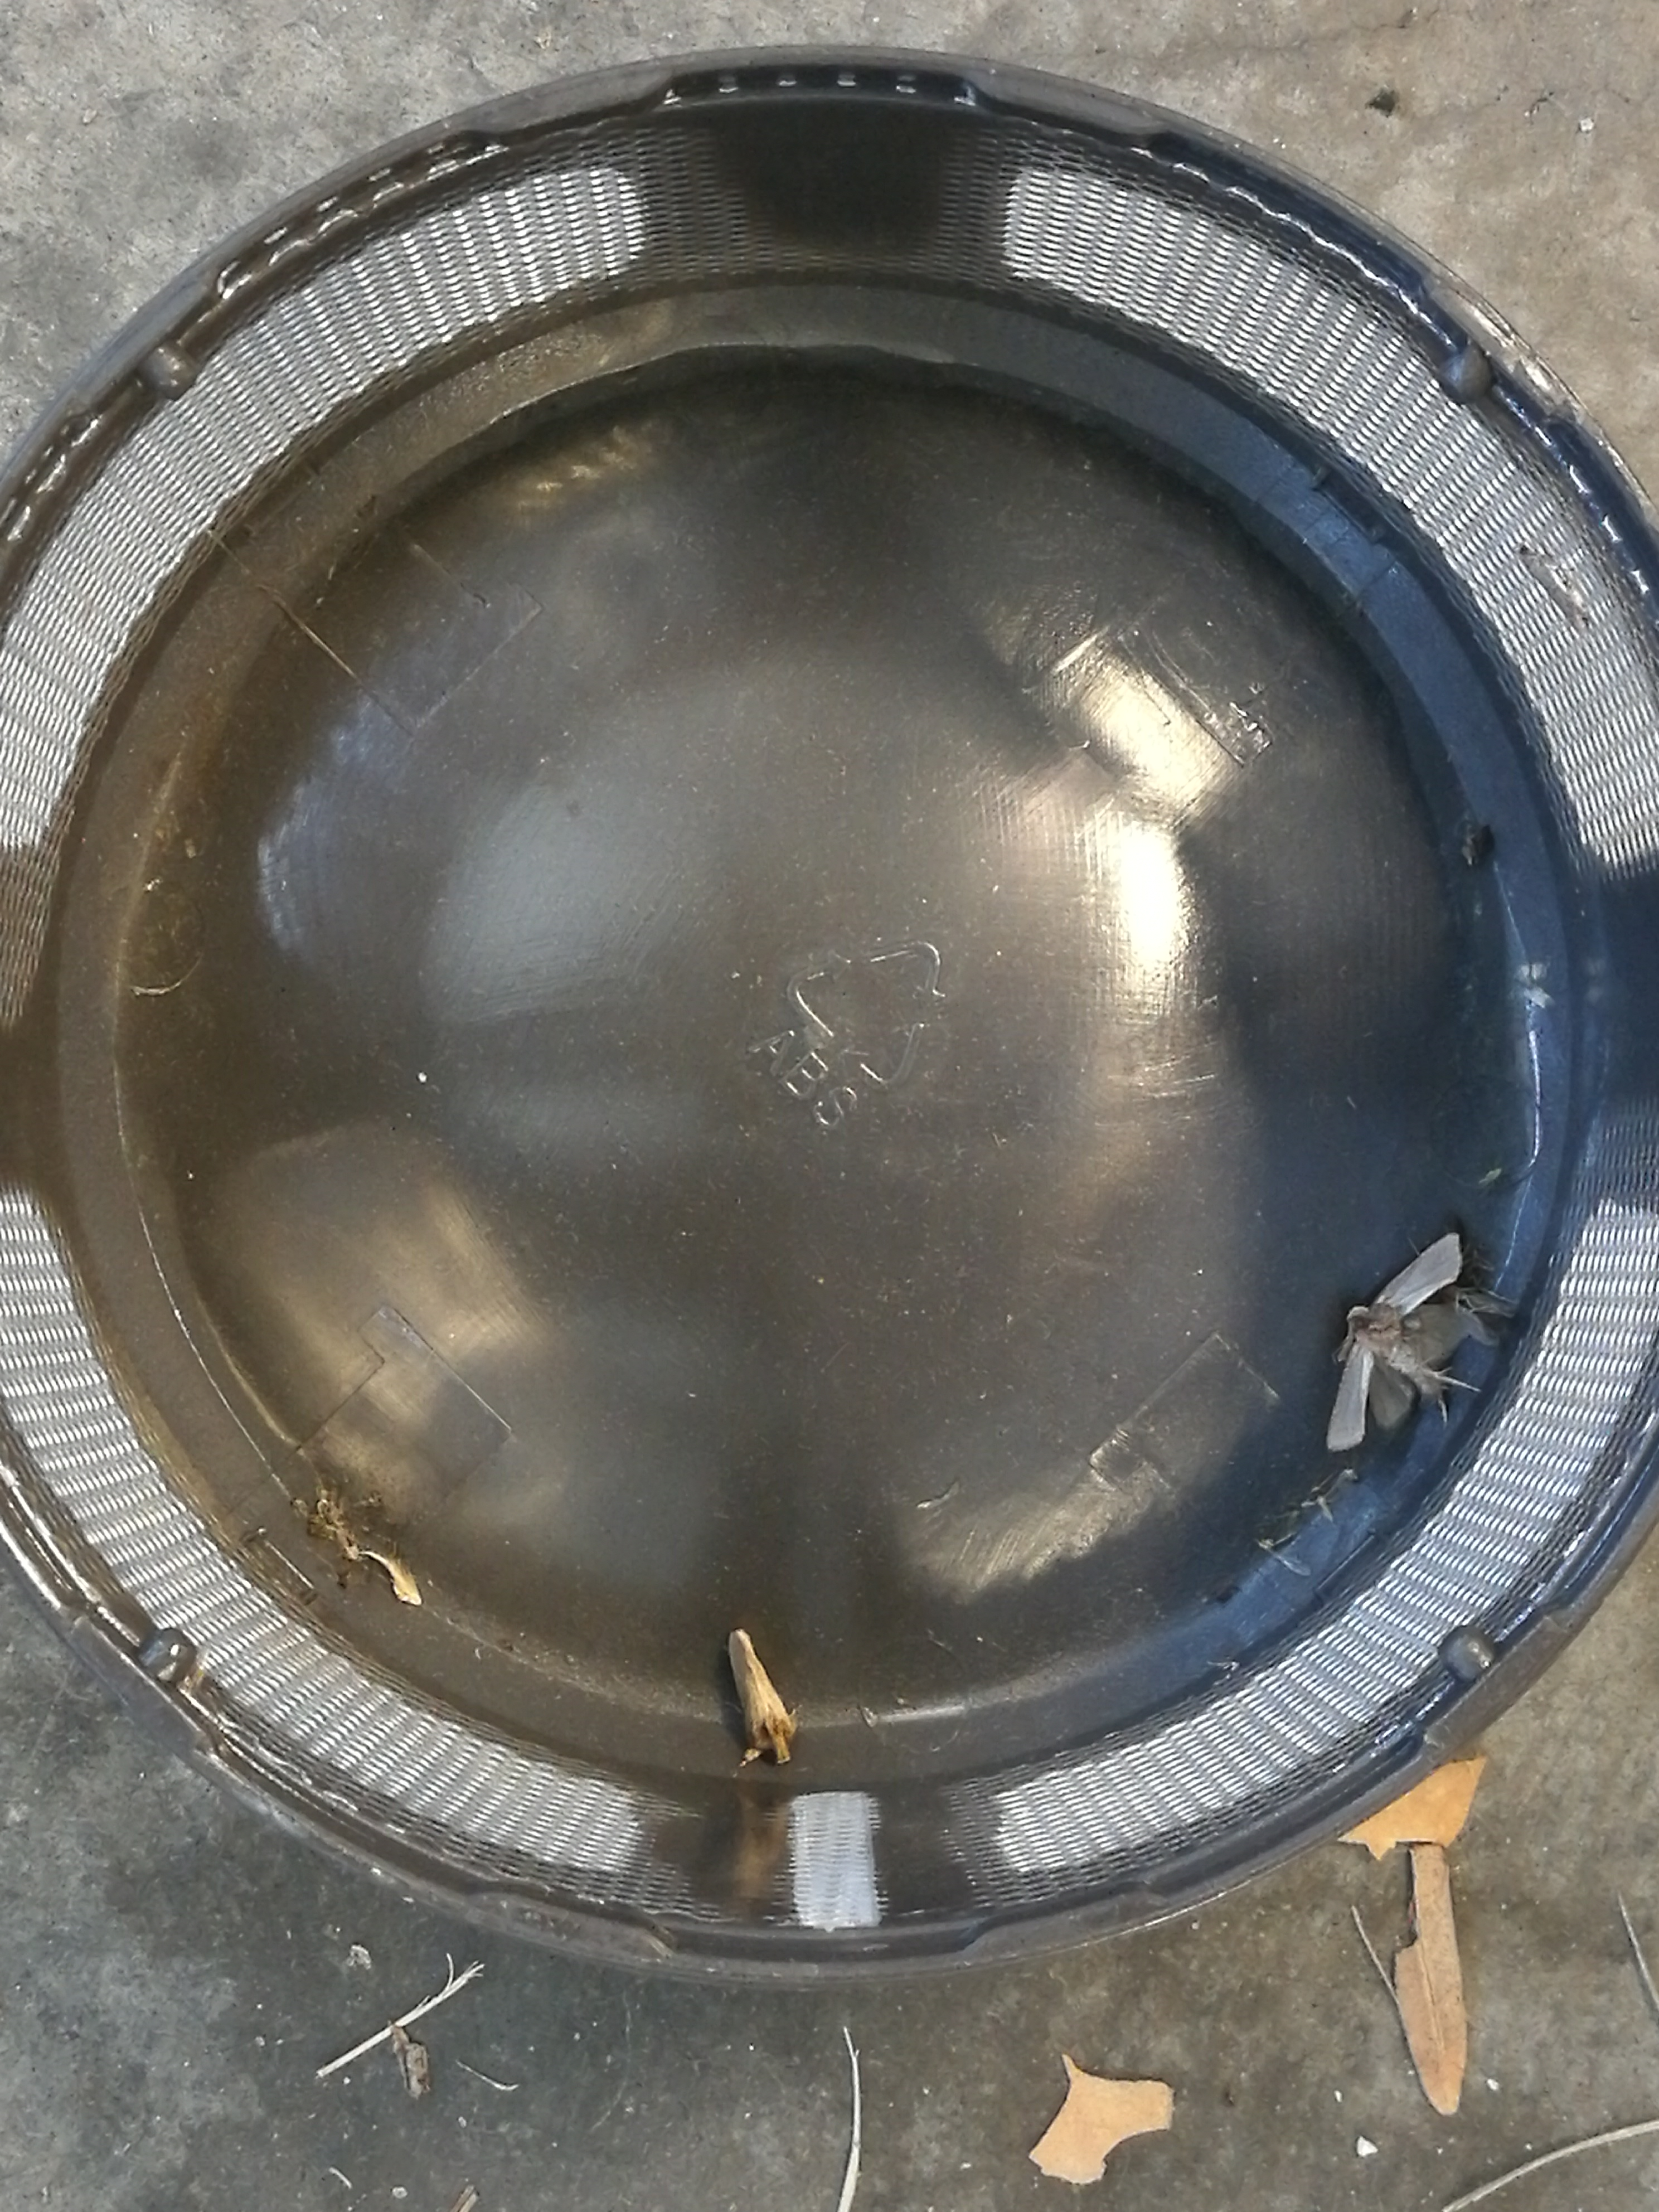beetle: (730, 1629, 791, 1764)
moth: (1326, 1231, 1466, 1449), (1450, 1287, 1513, 1346)
